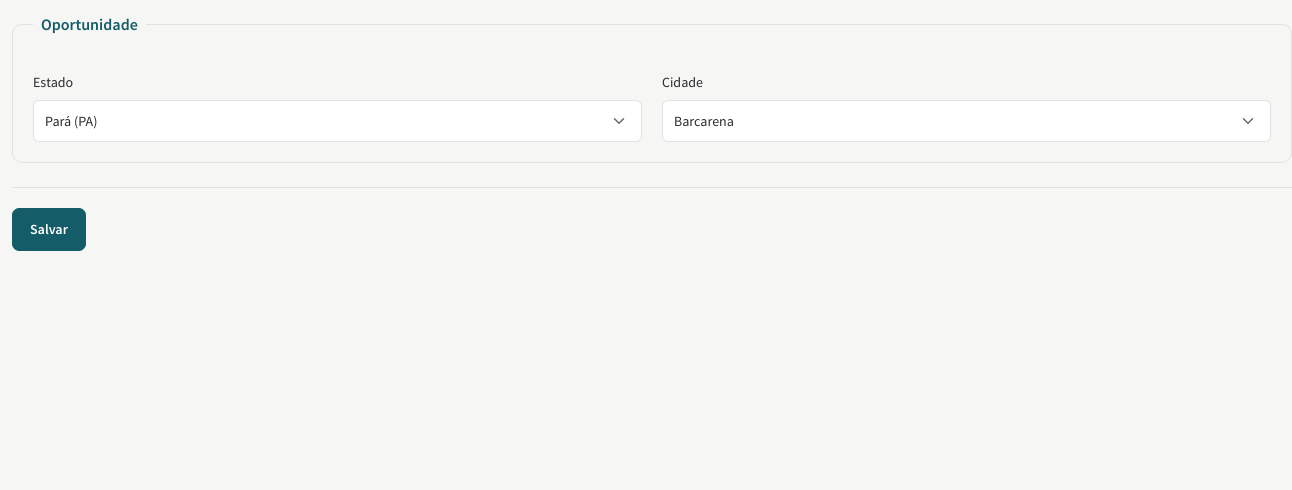
Localidades da vaga › pesquisa sem acentos e envia cidade e UF, limpando a cidade ao trocar o estado
Later steps or results of the test are not shown.
Expected: the search field named "Buscar Cidade" holds "Barcarena", [662,100,1271,142]
Click the button named "Mostrar opções de Cidade". click: point(1248, 121)
box: [1226,101,1270,141]
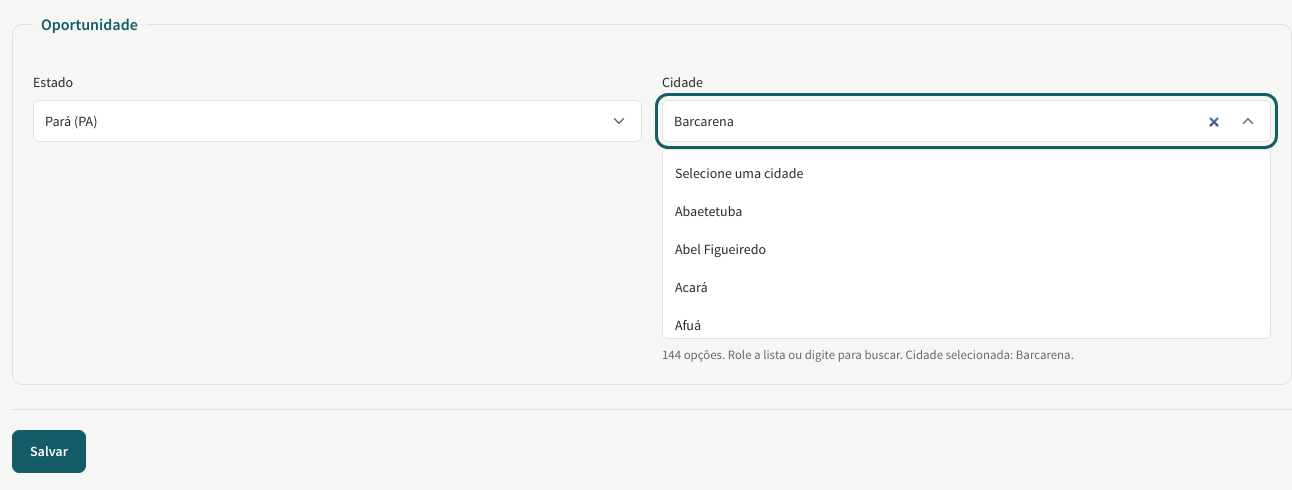
Expected: the dropdown named "Cidade" is shown, [662,149,1271,339]
Click the button named "Fechar opções de Cidade". click: point(1248, 121)
box: [1226,101,1270,141]
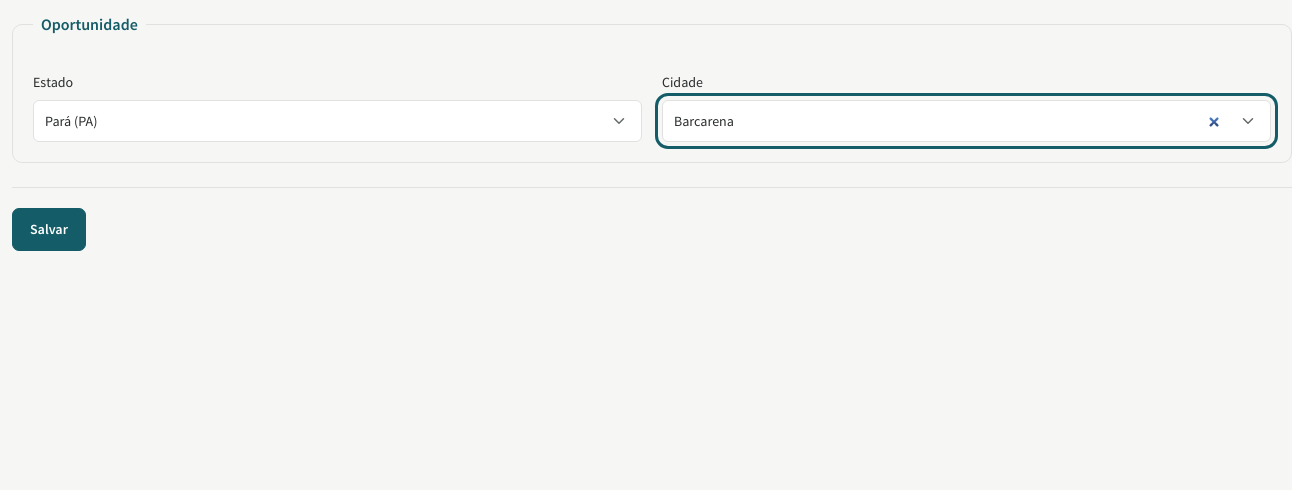
Click the button named "Mostrar opções de Estado". click: point(619, 121)
box: [597,101,641,141]
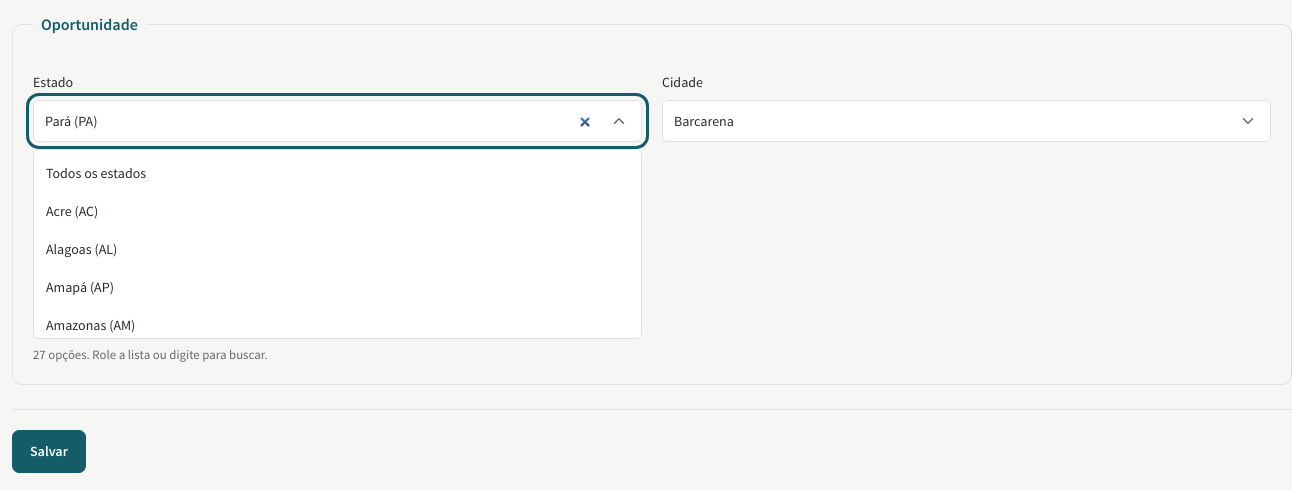
Click the button named "Fechar opções de Estado". click: point(619, 121)
box: [597,101,641,141]
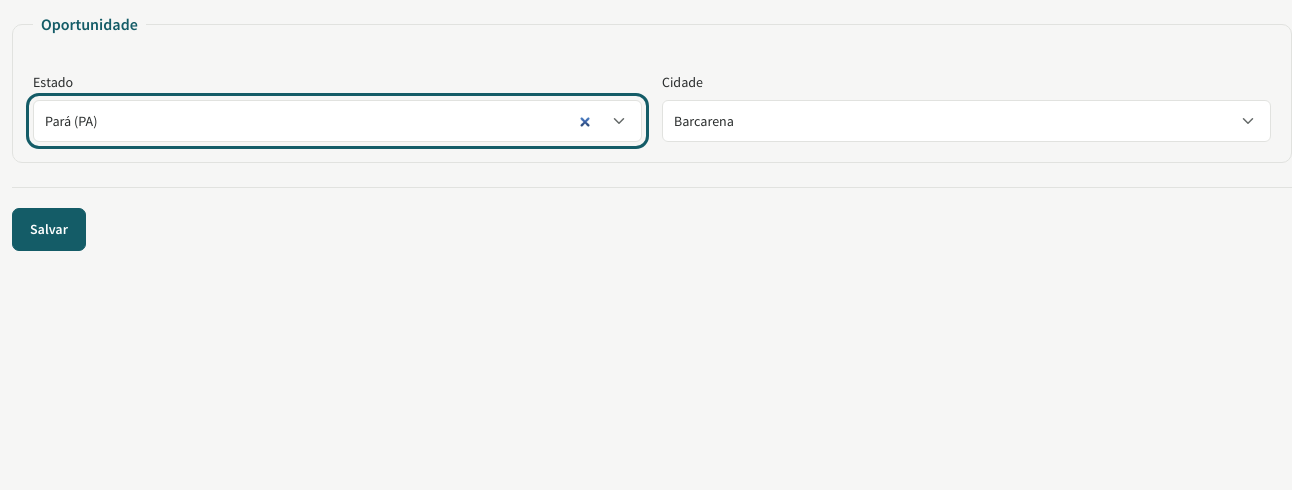
Replace the text in the search field named "Buscar Cidade" with "belem". click: point(966, 121)
box: [662,100,1271,142]
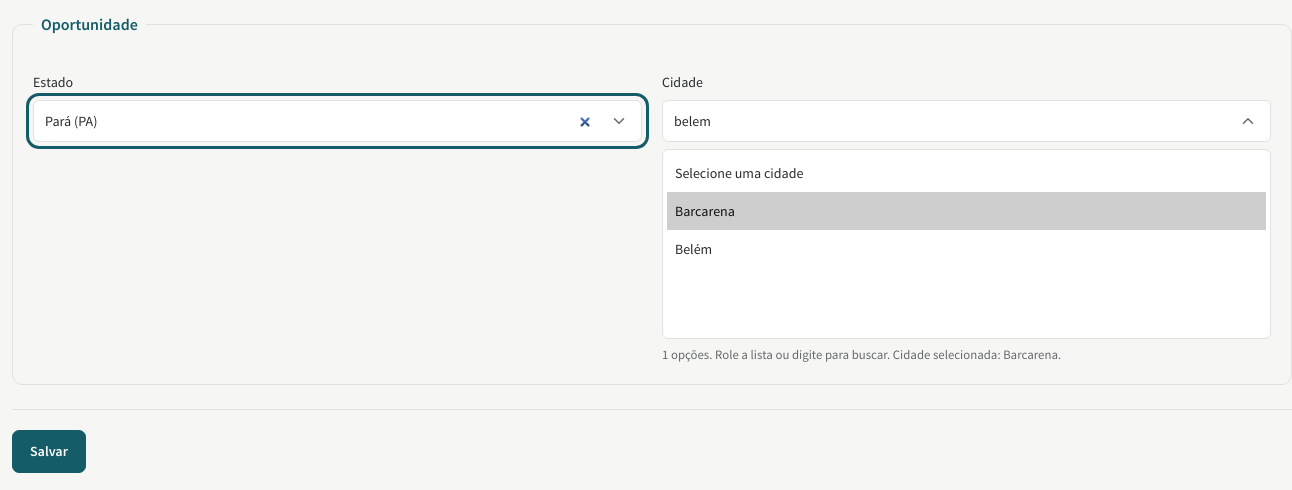
Select "Belém" in the dropdown named "Cidade". click: point(966, 244)
box: [662,149,1271,339]
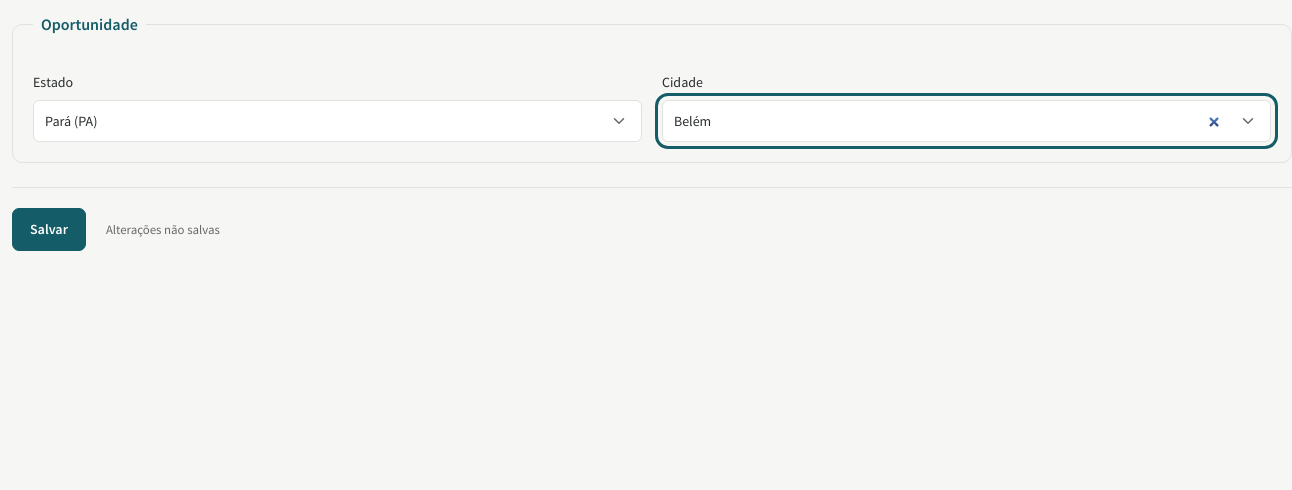
Expected: the search field named "Buscar Cidade" holds "Belém", [662,100,1271,142]
